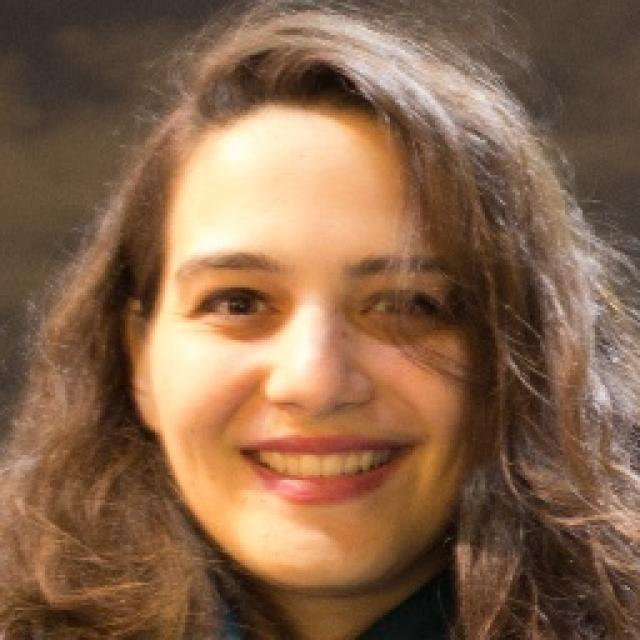earlobe: (123, 297, 160, 435)
